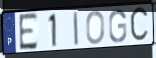1: (47, 12, 58, 48)
C: (129, 5, 151, 45)
E: (18, 12, 39, 53)
G: (108, 9, 128, 44)
I: (73, 10, 80, 47)
O: (85, 10, 106, 45)
